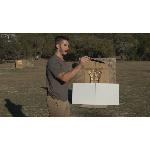Pisau: (86, 52, 110, 68)
